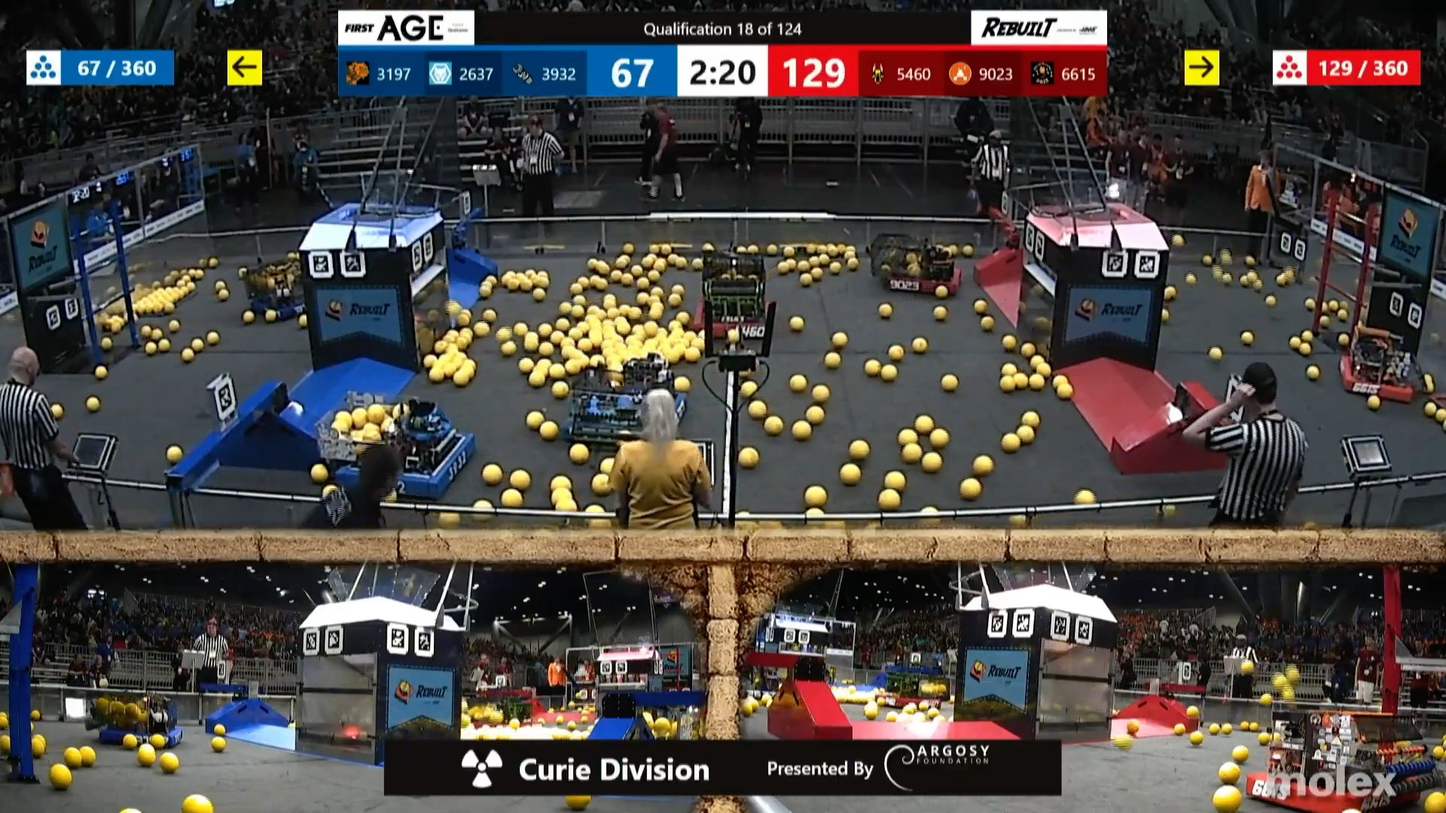bumpers: (330, 431, 484, 498), (1243, 765, 1446, 813), (563, 388, 696, 453), (1326, 350, 1428, 409), (691, 294, 780, 348), (97, 717, 194, 756), (873, 262, 972, 299), (239, 289, 331, 325)
